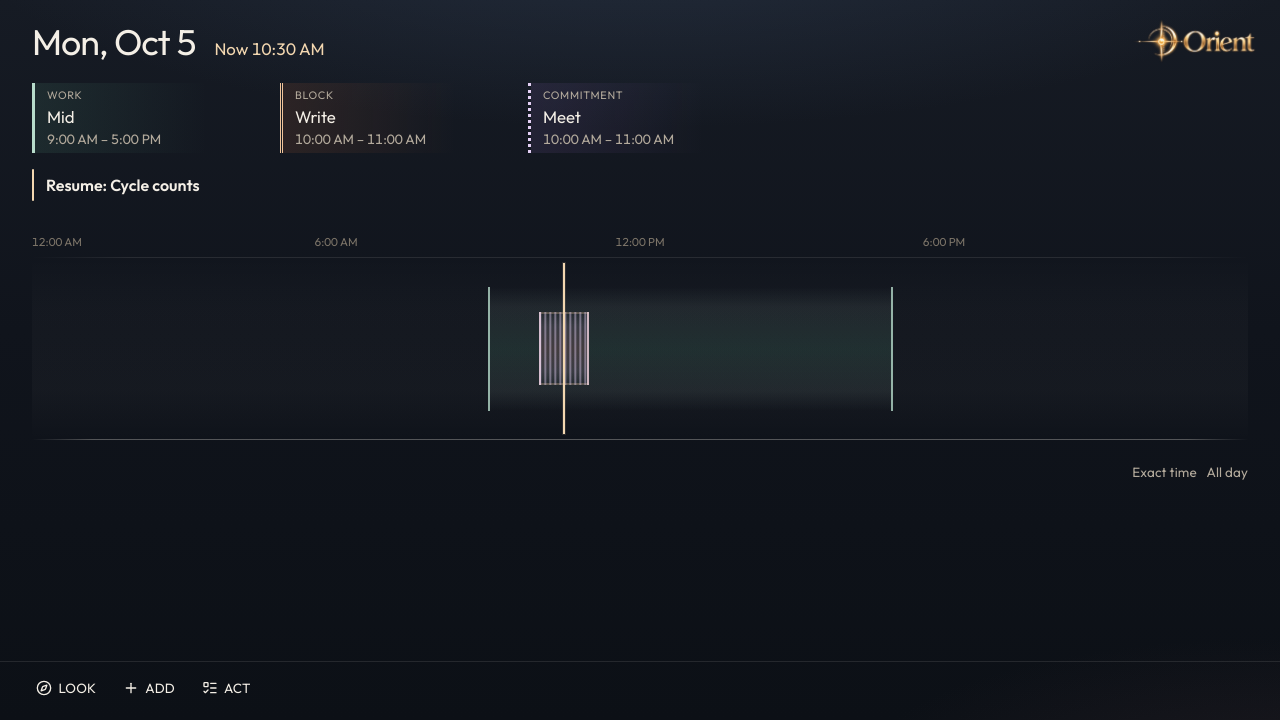
it: desktop reading › claims a bounded horizontal Day temporal territory without becoming Exact Time or the rejected Day field
Click the button "LOOK" at (66, 688), box x1=24 y1=668 x2=108 y2=708
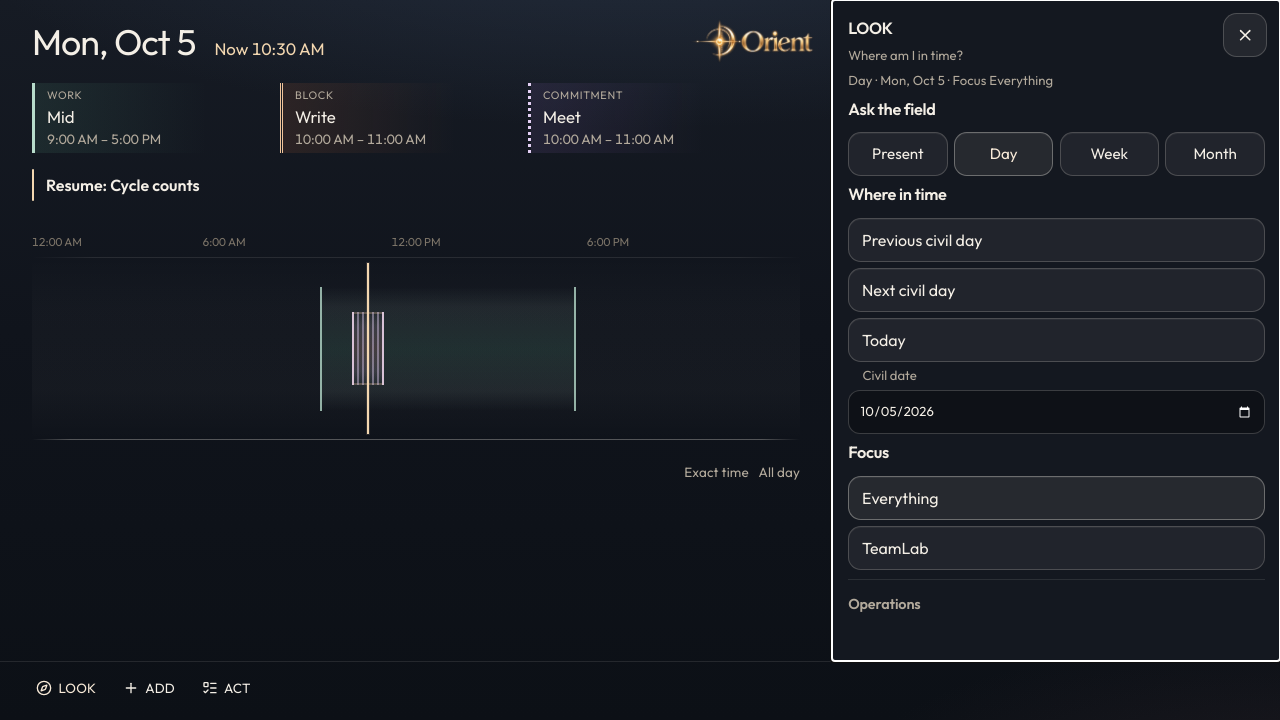
Click the button "Day" at (1004, 154), box x1=954 y1=132 x2=1053 y2=176
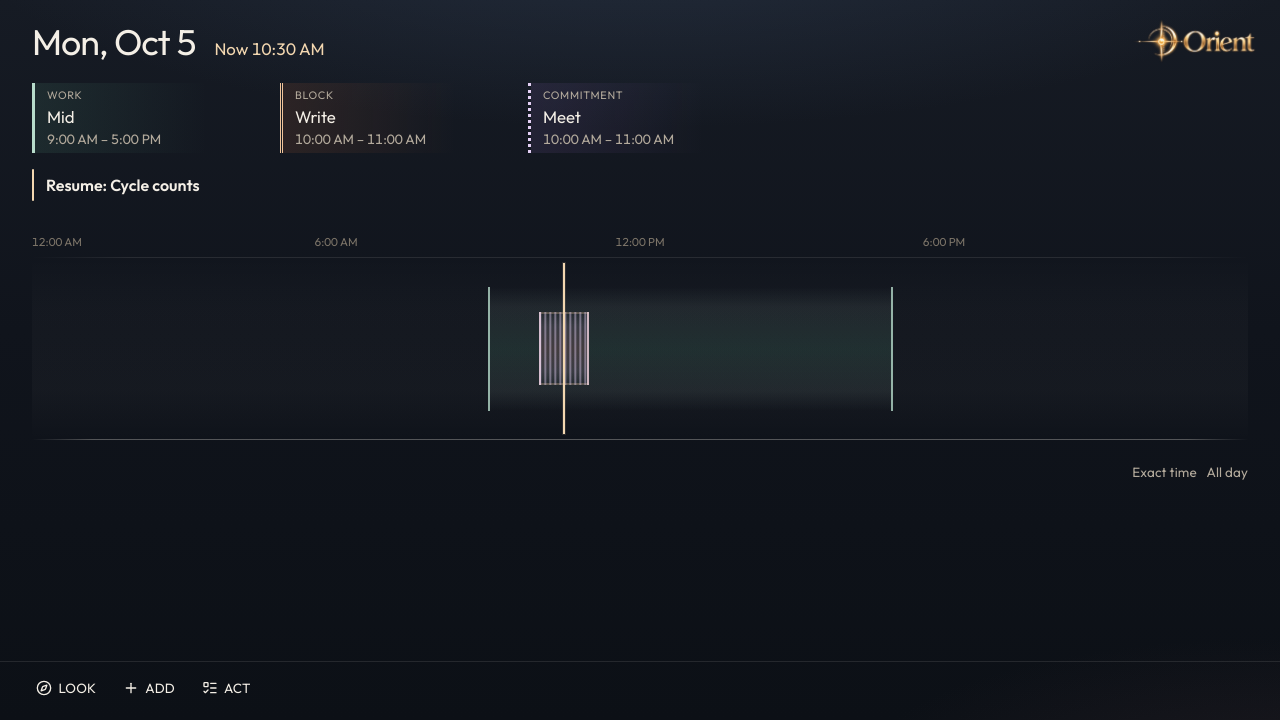
expect the element showing "12:00 AM 6:00 AM 12:00 PM 6:00 PM Exact time All day" is shown: met, box x1=32 y1=227 x2=1248 y2=488
expect the element showing "12:00 AM 6:00 AM 12:00 PM 6:00 PM" is shown: met, box x1=32 y1=227 x2=1248 y2=443
Click the button "LOOK" at (66, 688), box x1=24 y1=668 x2=108 y2=708
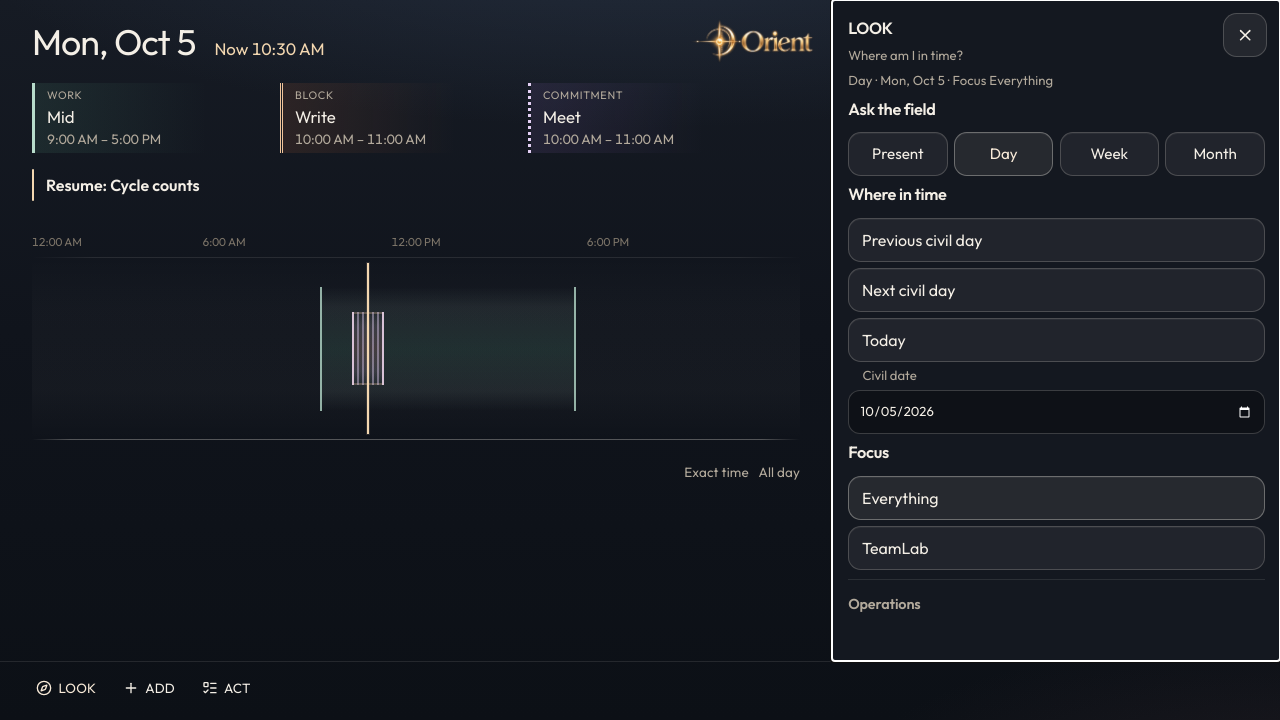
expect the element showing "Mon, Oct 5 Now 10:30 AM" is shown: met, box x1=32 y1=19 x2=324 y2=64
expect the text "Day · Mon, Oct 5 · Focus Everything" is shown: met, box x1=848 y1=71 x2=1053 y2=91
expect the element showing "Operations" is shown: met, box x1=848 y1=579 x2=1265 y2=621
